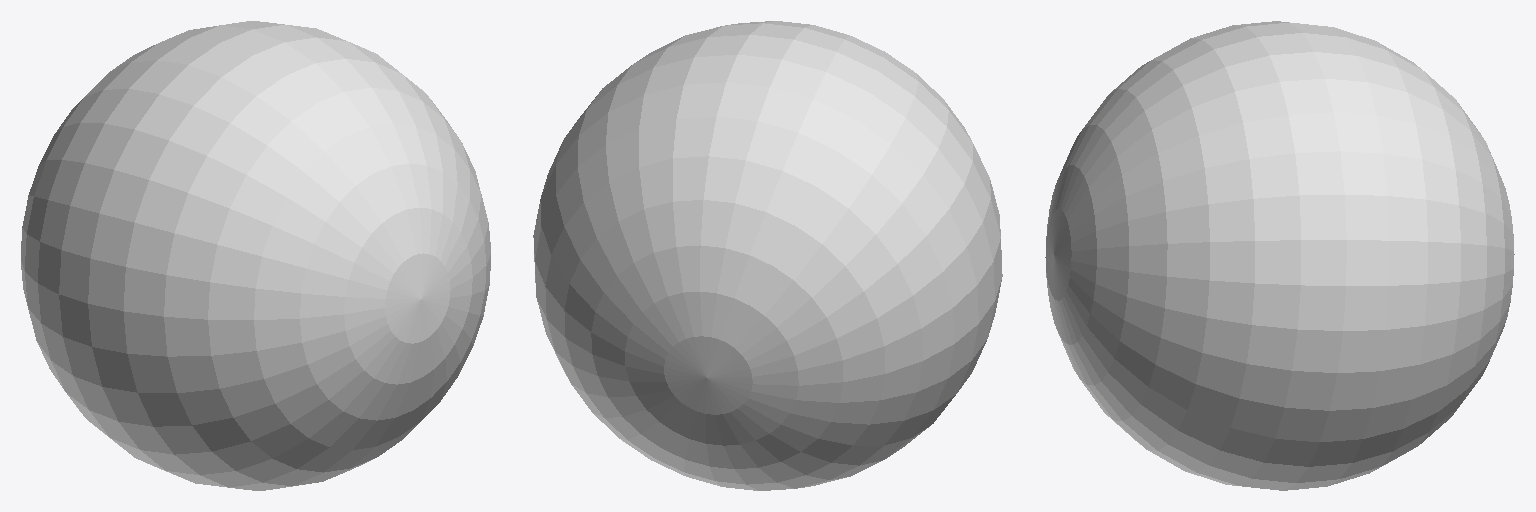
File: stg690_sky.obj
3 renders of one model, left to right at view 1: azimuth 30°, elevation 25°; view 2: azimuth 150°, elevation 25°; view 3: azimuth 270°, elevation 25°, orthographic.
Parts seen in each view (by area): view 1: polygon0; view 2: polygon0, polygon1; view 3: polygon0.
Boxes of the visible parts, x1,y1,x2,y2 form: polygon0: [21, 21, 490, 490]; polygon0: [533, 21, 1002, 490]; polygon1: [693, 364, 721, 389]; polygon0: [1045, 21, 1514, 490].
Bounding box in the file's own units: 28682 × 28598 × 28677.